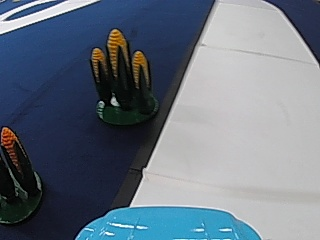corn: (89, 26, 159, 126), (0, 123, 44, 223)
